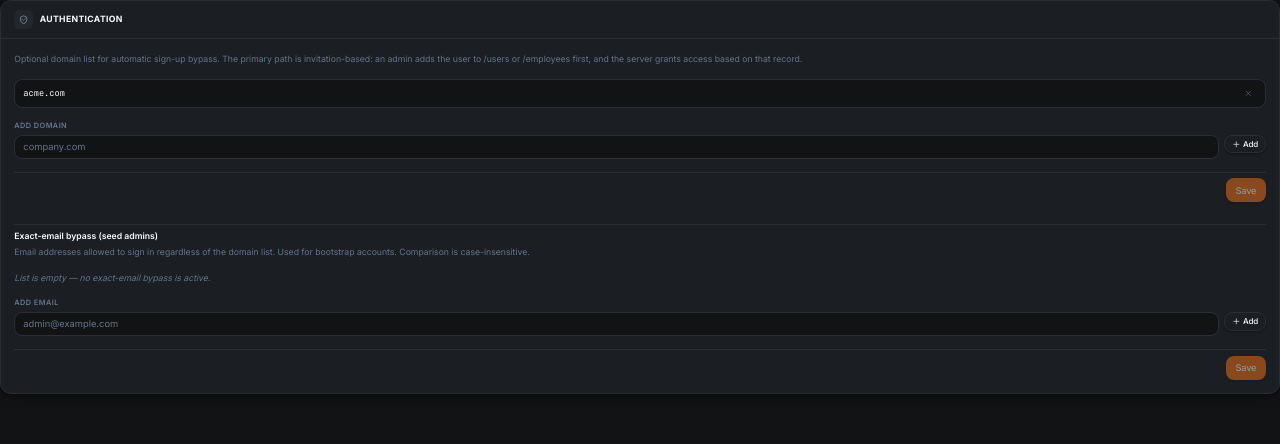
Test: AuthSettingsPanel › adds a valid domain and enables Save
expect the text "acme.com" is shown: met, box [23, 87, 65, 100]
Type "beta.io" into the field with id "auth-add-domain". click: {"x": 617, "y": 147}
box: [14, 135, 1219, 159]
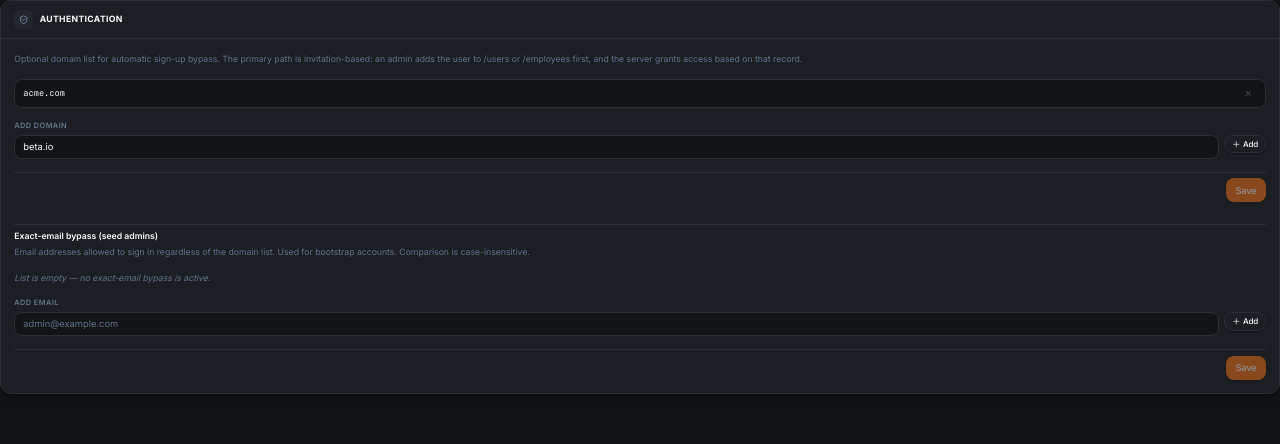
Click the 1st button "Add". click: {"x": 1245, "y": 144}
box: [1224, 135, 1266, 153]
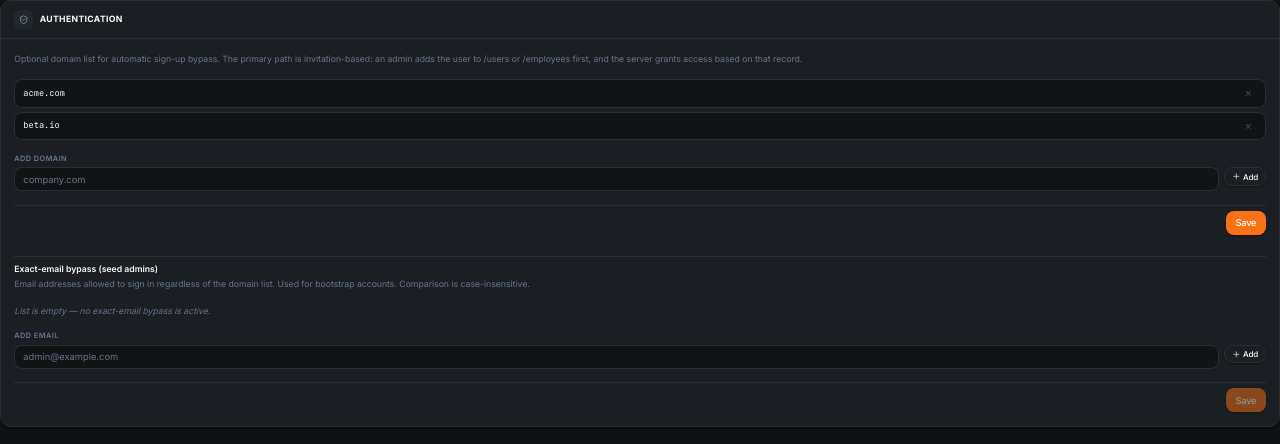
expect the text "beta.io" is shown: met, box [23, 120, 60, 132]
expect the 1st button "Save" is enabled: met, box [1226, 211, 1266, 235]
